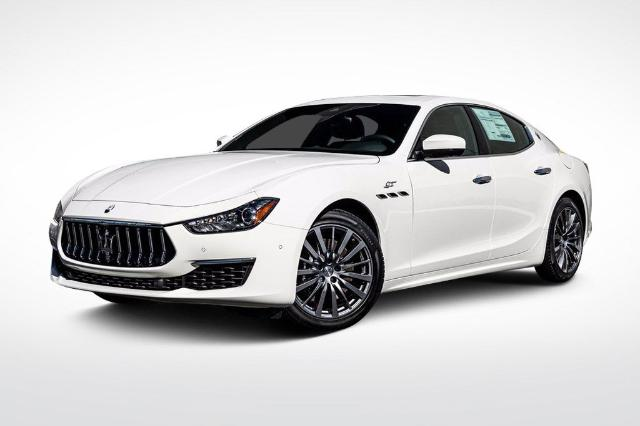maserati: (49, 94, 593, 332)
